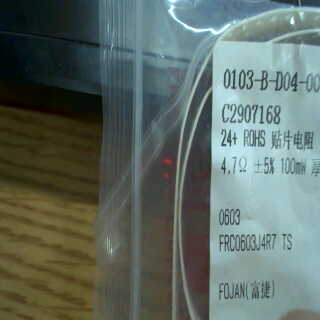4.7R: (218, 156, 252, 176)
